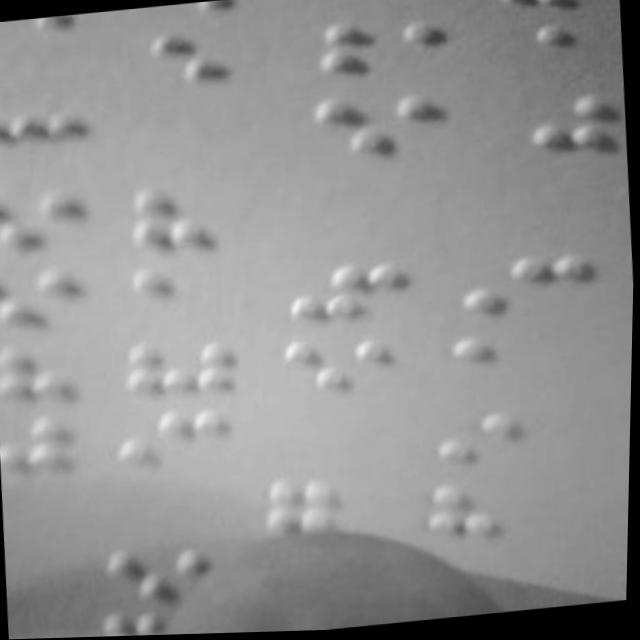braiile: (300, 99, 452, 190), (452, 243, 599, 331), (309, 20, 451, 111), (138, 38, 292, 120), (115, 180, 257, 266), (441, 327, 586, 408), (112, 336, 253, 418), (480, 12, 625, 91), (273, 327, 408, 411), (111, 403, 252, 479), (279, 256, 412, 336), (118, 257, 255, 334), (515, 90, 628, 166), (0, 112, 100, 192), (0, 185, 92, 264), (0, 9, 134, 60), (0, 263, 89, 337), (151, 0, 299, 44), (309, 0, 455, 41)
